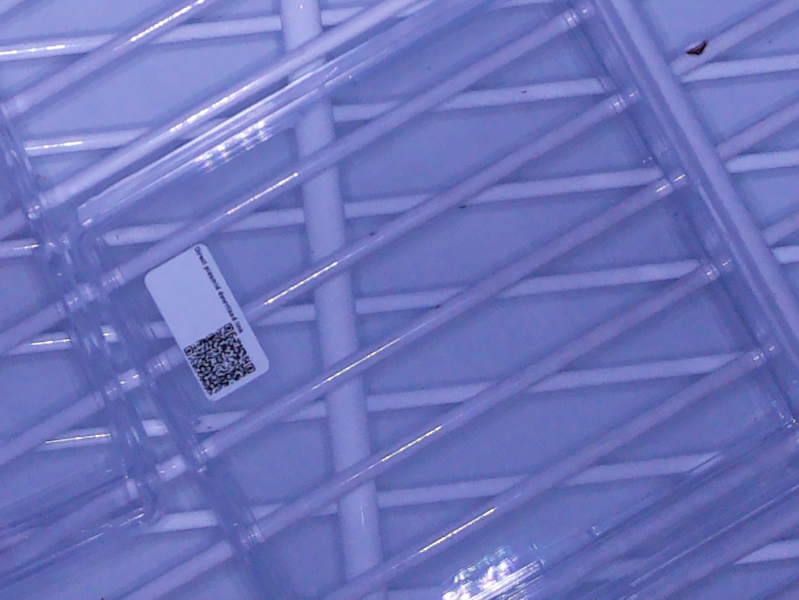plate: (67, 1, 799, 600), (1, 106, 167, 591)
